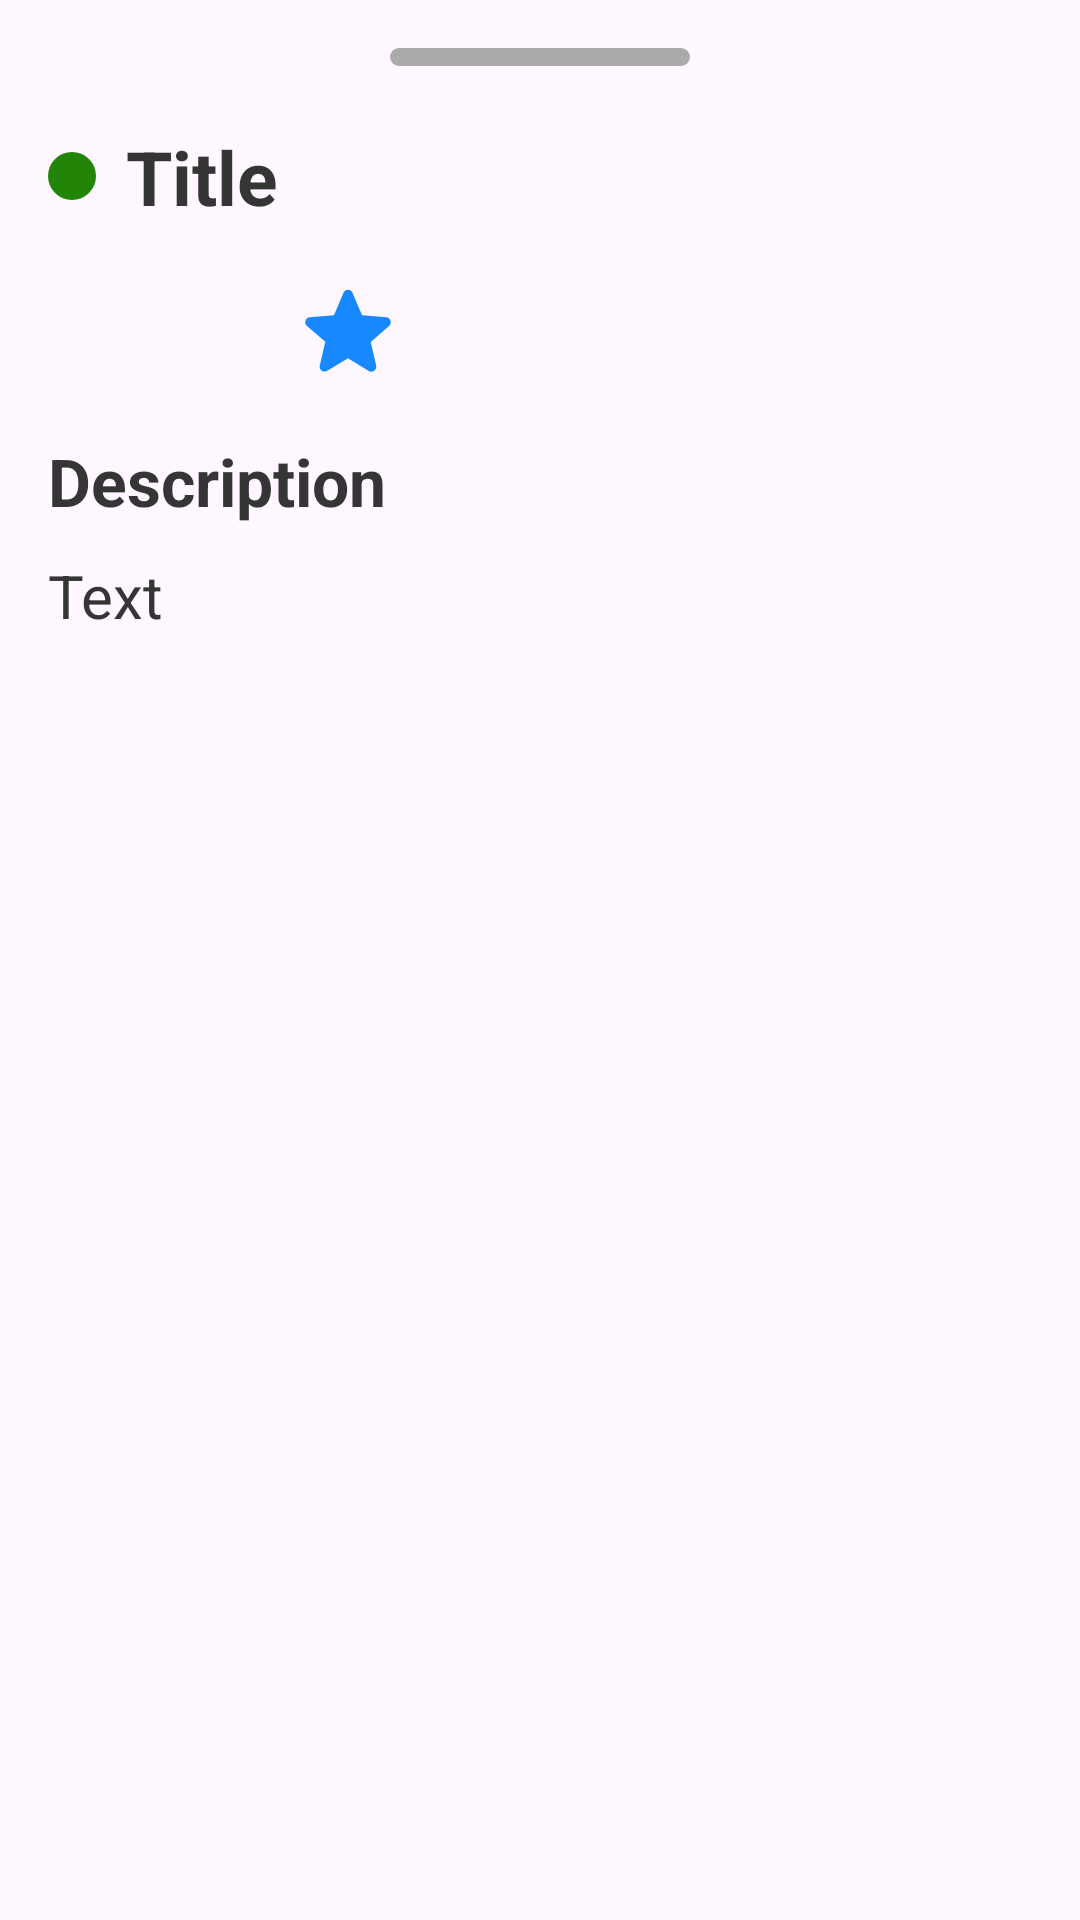

Where icons sit on this 1080 × 1920 app screen, as (x1, y1, x2, y2):
star: (305, 289, 391, 372)
